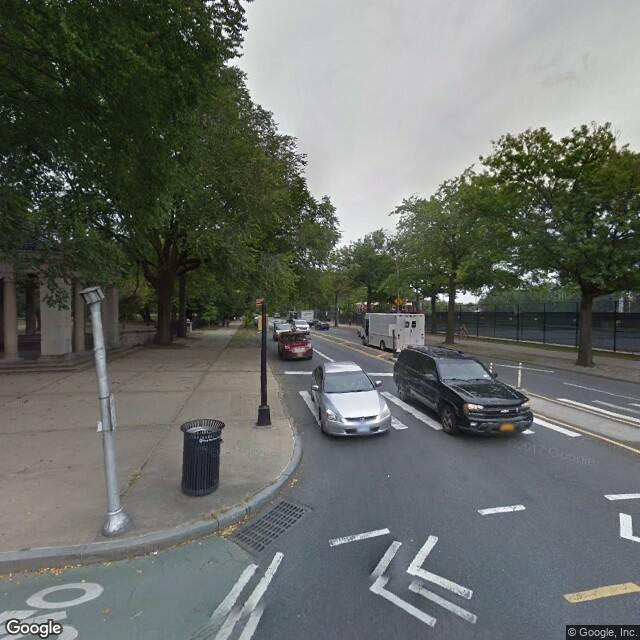litter: (153, 552, 159, 554)
